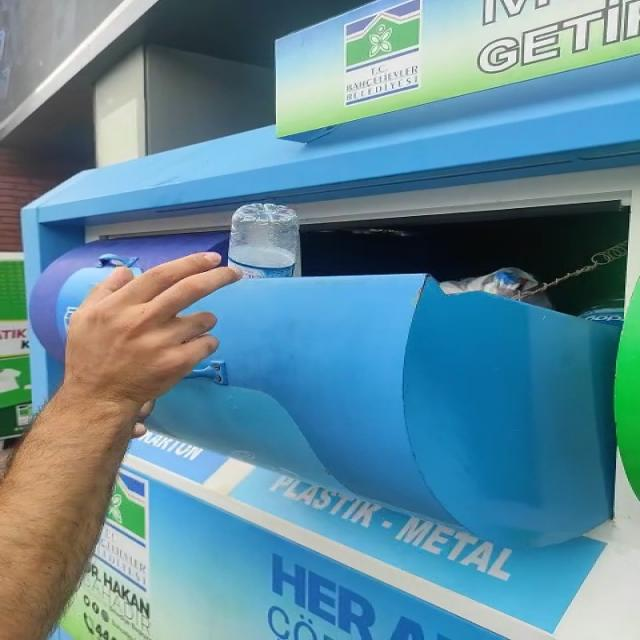plastic: (228, 204, 300, 278)
